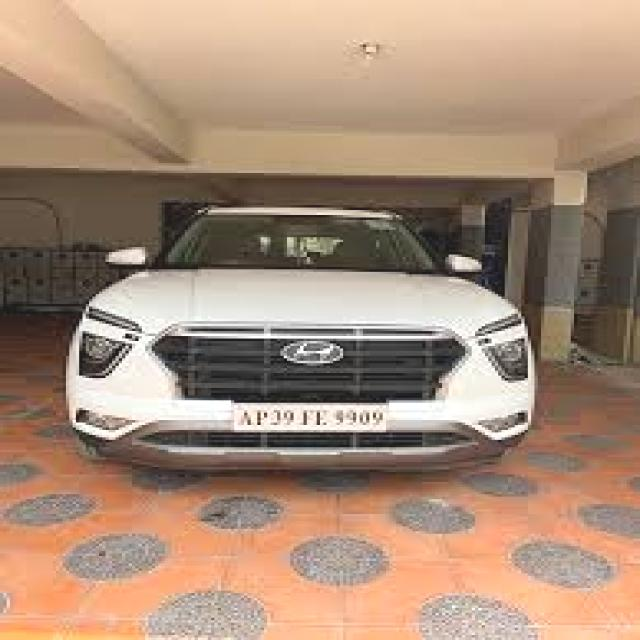SUV: (61, 195, 538, 475)
